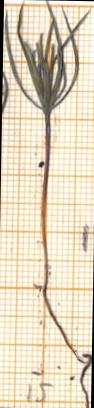flower: (1, 0, 80, 116)
root: (34, 286, 92, 408)
stem: (36, 118, 58, 286)
